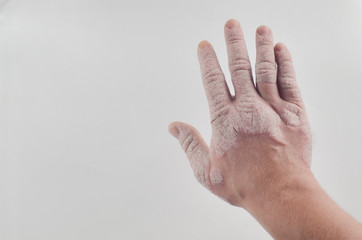Diseased: (173, 29, 320, 189)
